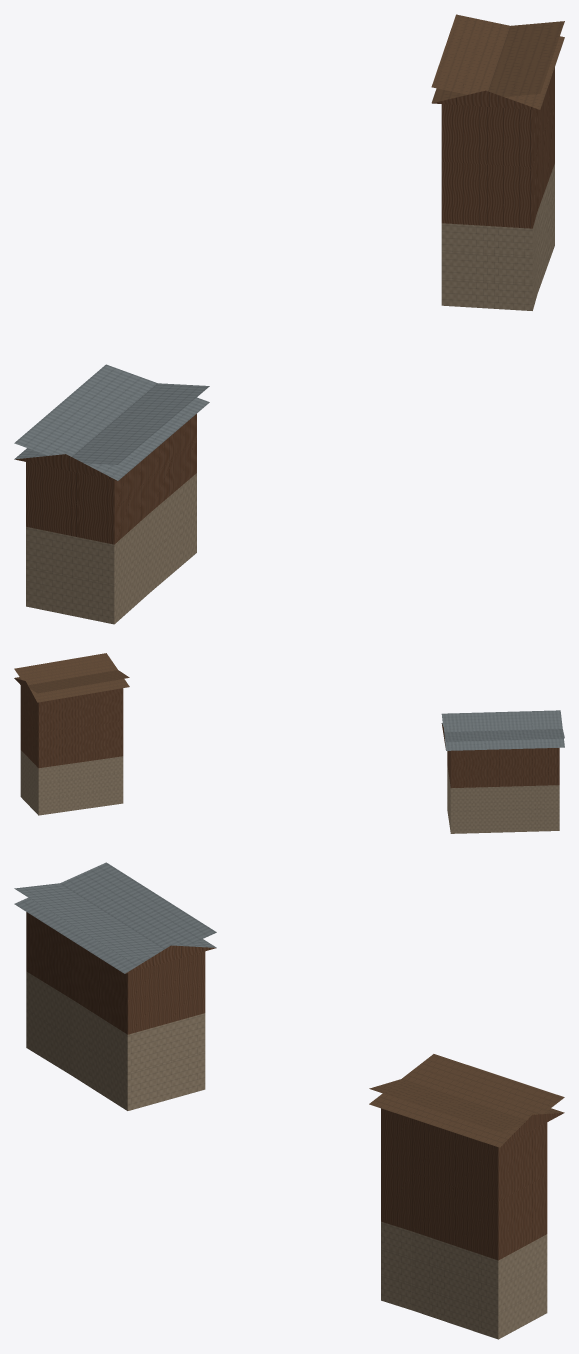
The model's file is bld_c7_33_490.gltf.
3 views of the same model, one above another, from view 1: azimuth 30°, elevation 25°; view 2: azimuth 150°, elevation 25°; view 3: azimuth 270°, elevation 25° (orthographic). The views are drawn at different scales.
Visible parts, largest first — view 1: bld_c7_33_490; view 2: bld_c7_33_490; view 3: bld_c7_33_490.
Boxes of the visible parts, x1=… form: bld_c7_33_490: x1=14, y1=14, x2=564, y2=624; bld_c7_33_490: x1=14, y1=653, x2=564, y2=833; bld_c7_33_490: x1=14, y1=862, x2=564, y2=1339.
Size of the model in its own units: 48.93 by 15.6 by 32.22.
Materials: 5 (5 with a texture image).
